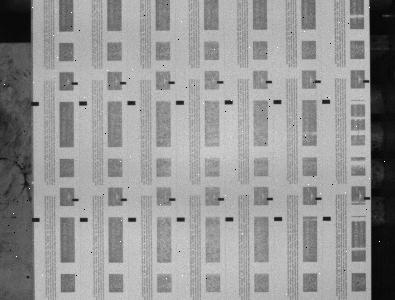backgroundclutter: (26, 275, 30, 278)
qblock: (32, 217, 40, 222), (128, 217, 136, 222), (323, 216, 331, 221), (31, 101, 39, 106), (176, 100, 184, 105), (79, 101, 87, 106), (322, 99, 330, 104), (225, 217, 234, 221), (273, 100, 282, 104), (127, 101, 136, 105), (177, 217, 185, 221), (274, 217, 282, 221), (80, 218, 88, 222), (225, 100, 233, 104)
smallqblock: (217, 80, 224, 84), (218, 197, 224, 201), (72, 198, 79, 201), (120, 198, 127, 201), (169, 198, 176, 201), (364, 197, 371, 200), (71, 82, 78, 85), (315, 197, 322, 200), (168, 81, 175, 84), (267, 197, 273, 200), (120, 81, 126, 84), (266, 80, 272, 83), (364, 80, 370, 83), (315, 80, 321, 83)
